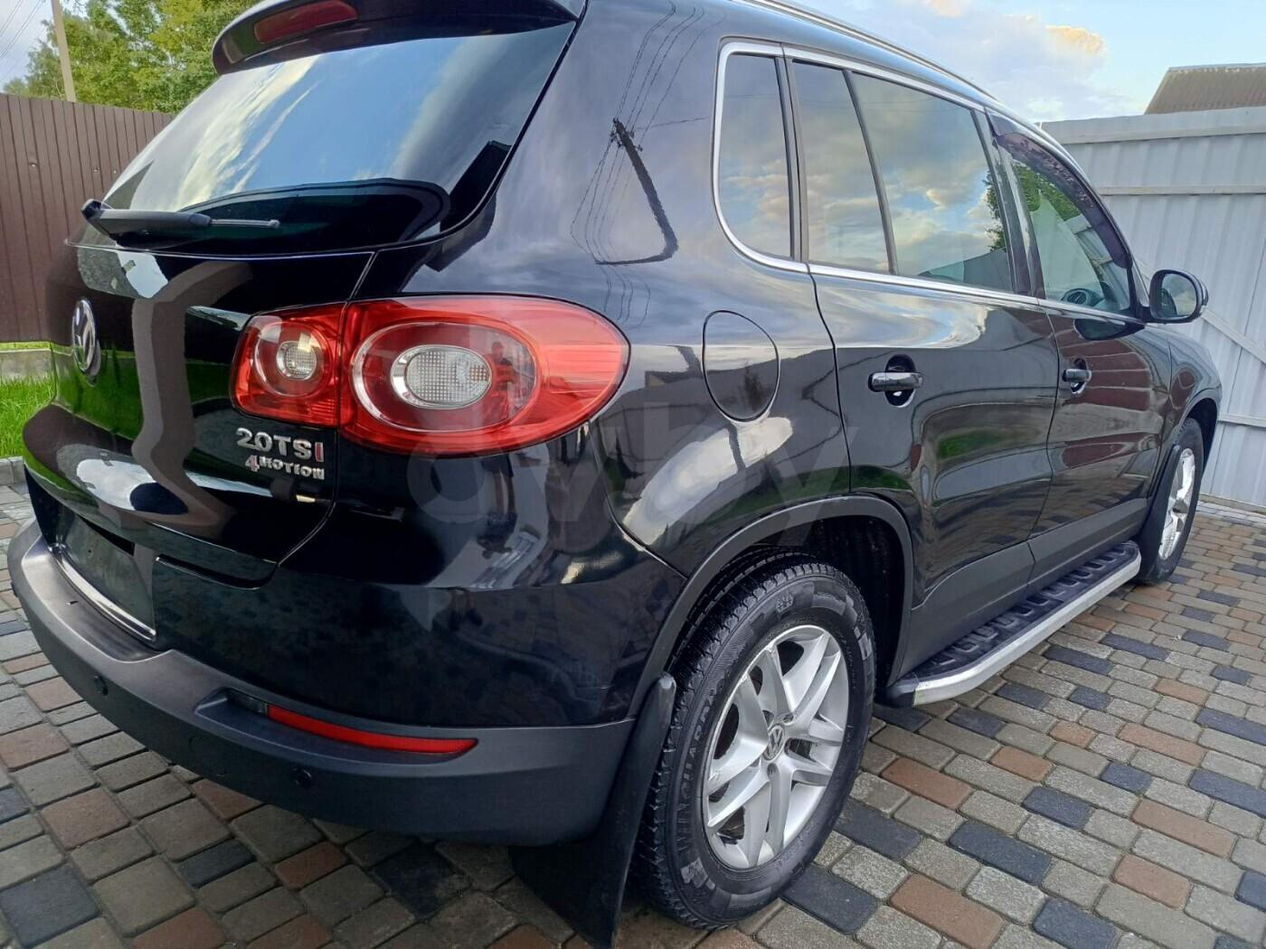Tiguan_2007-2011: (8, 0, 1222, 912)
